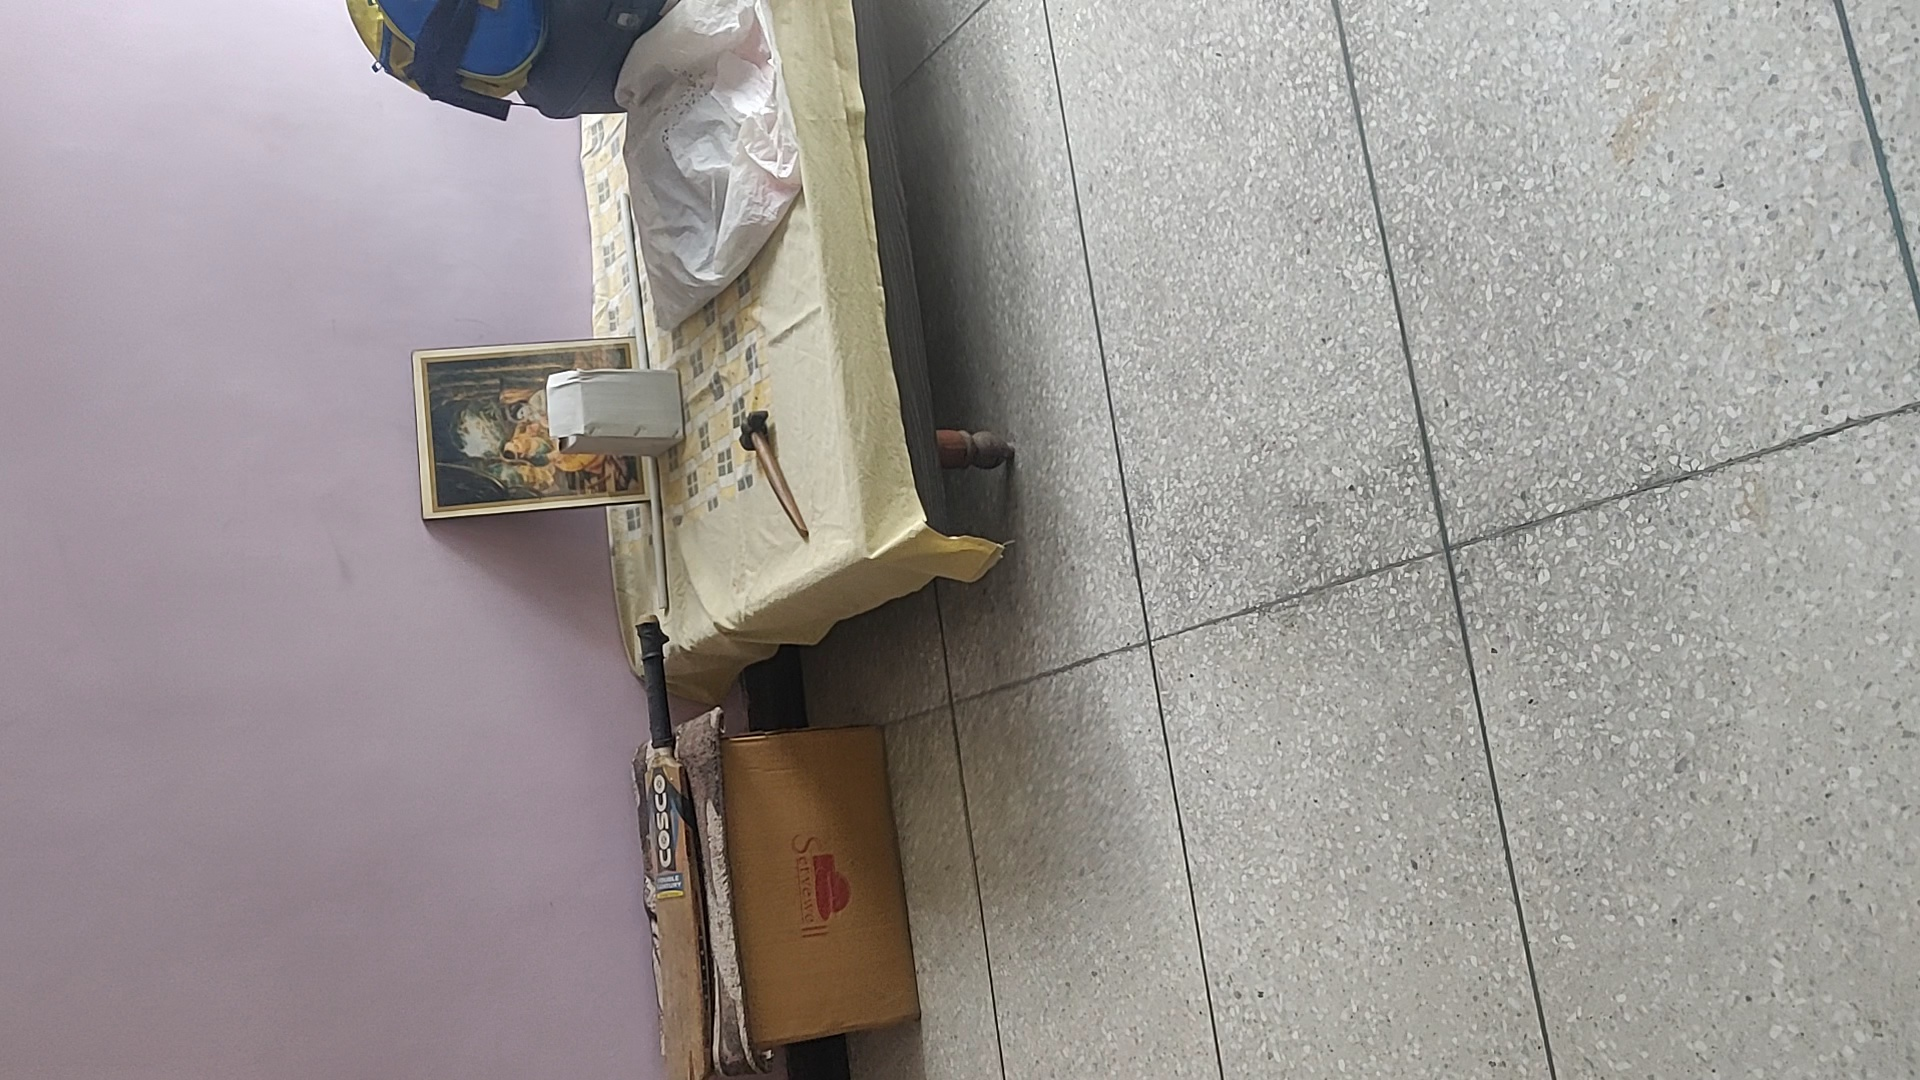hammer: (738, 407, 812, 545)
